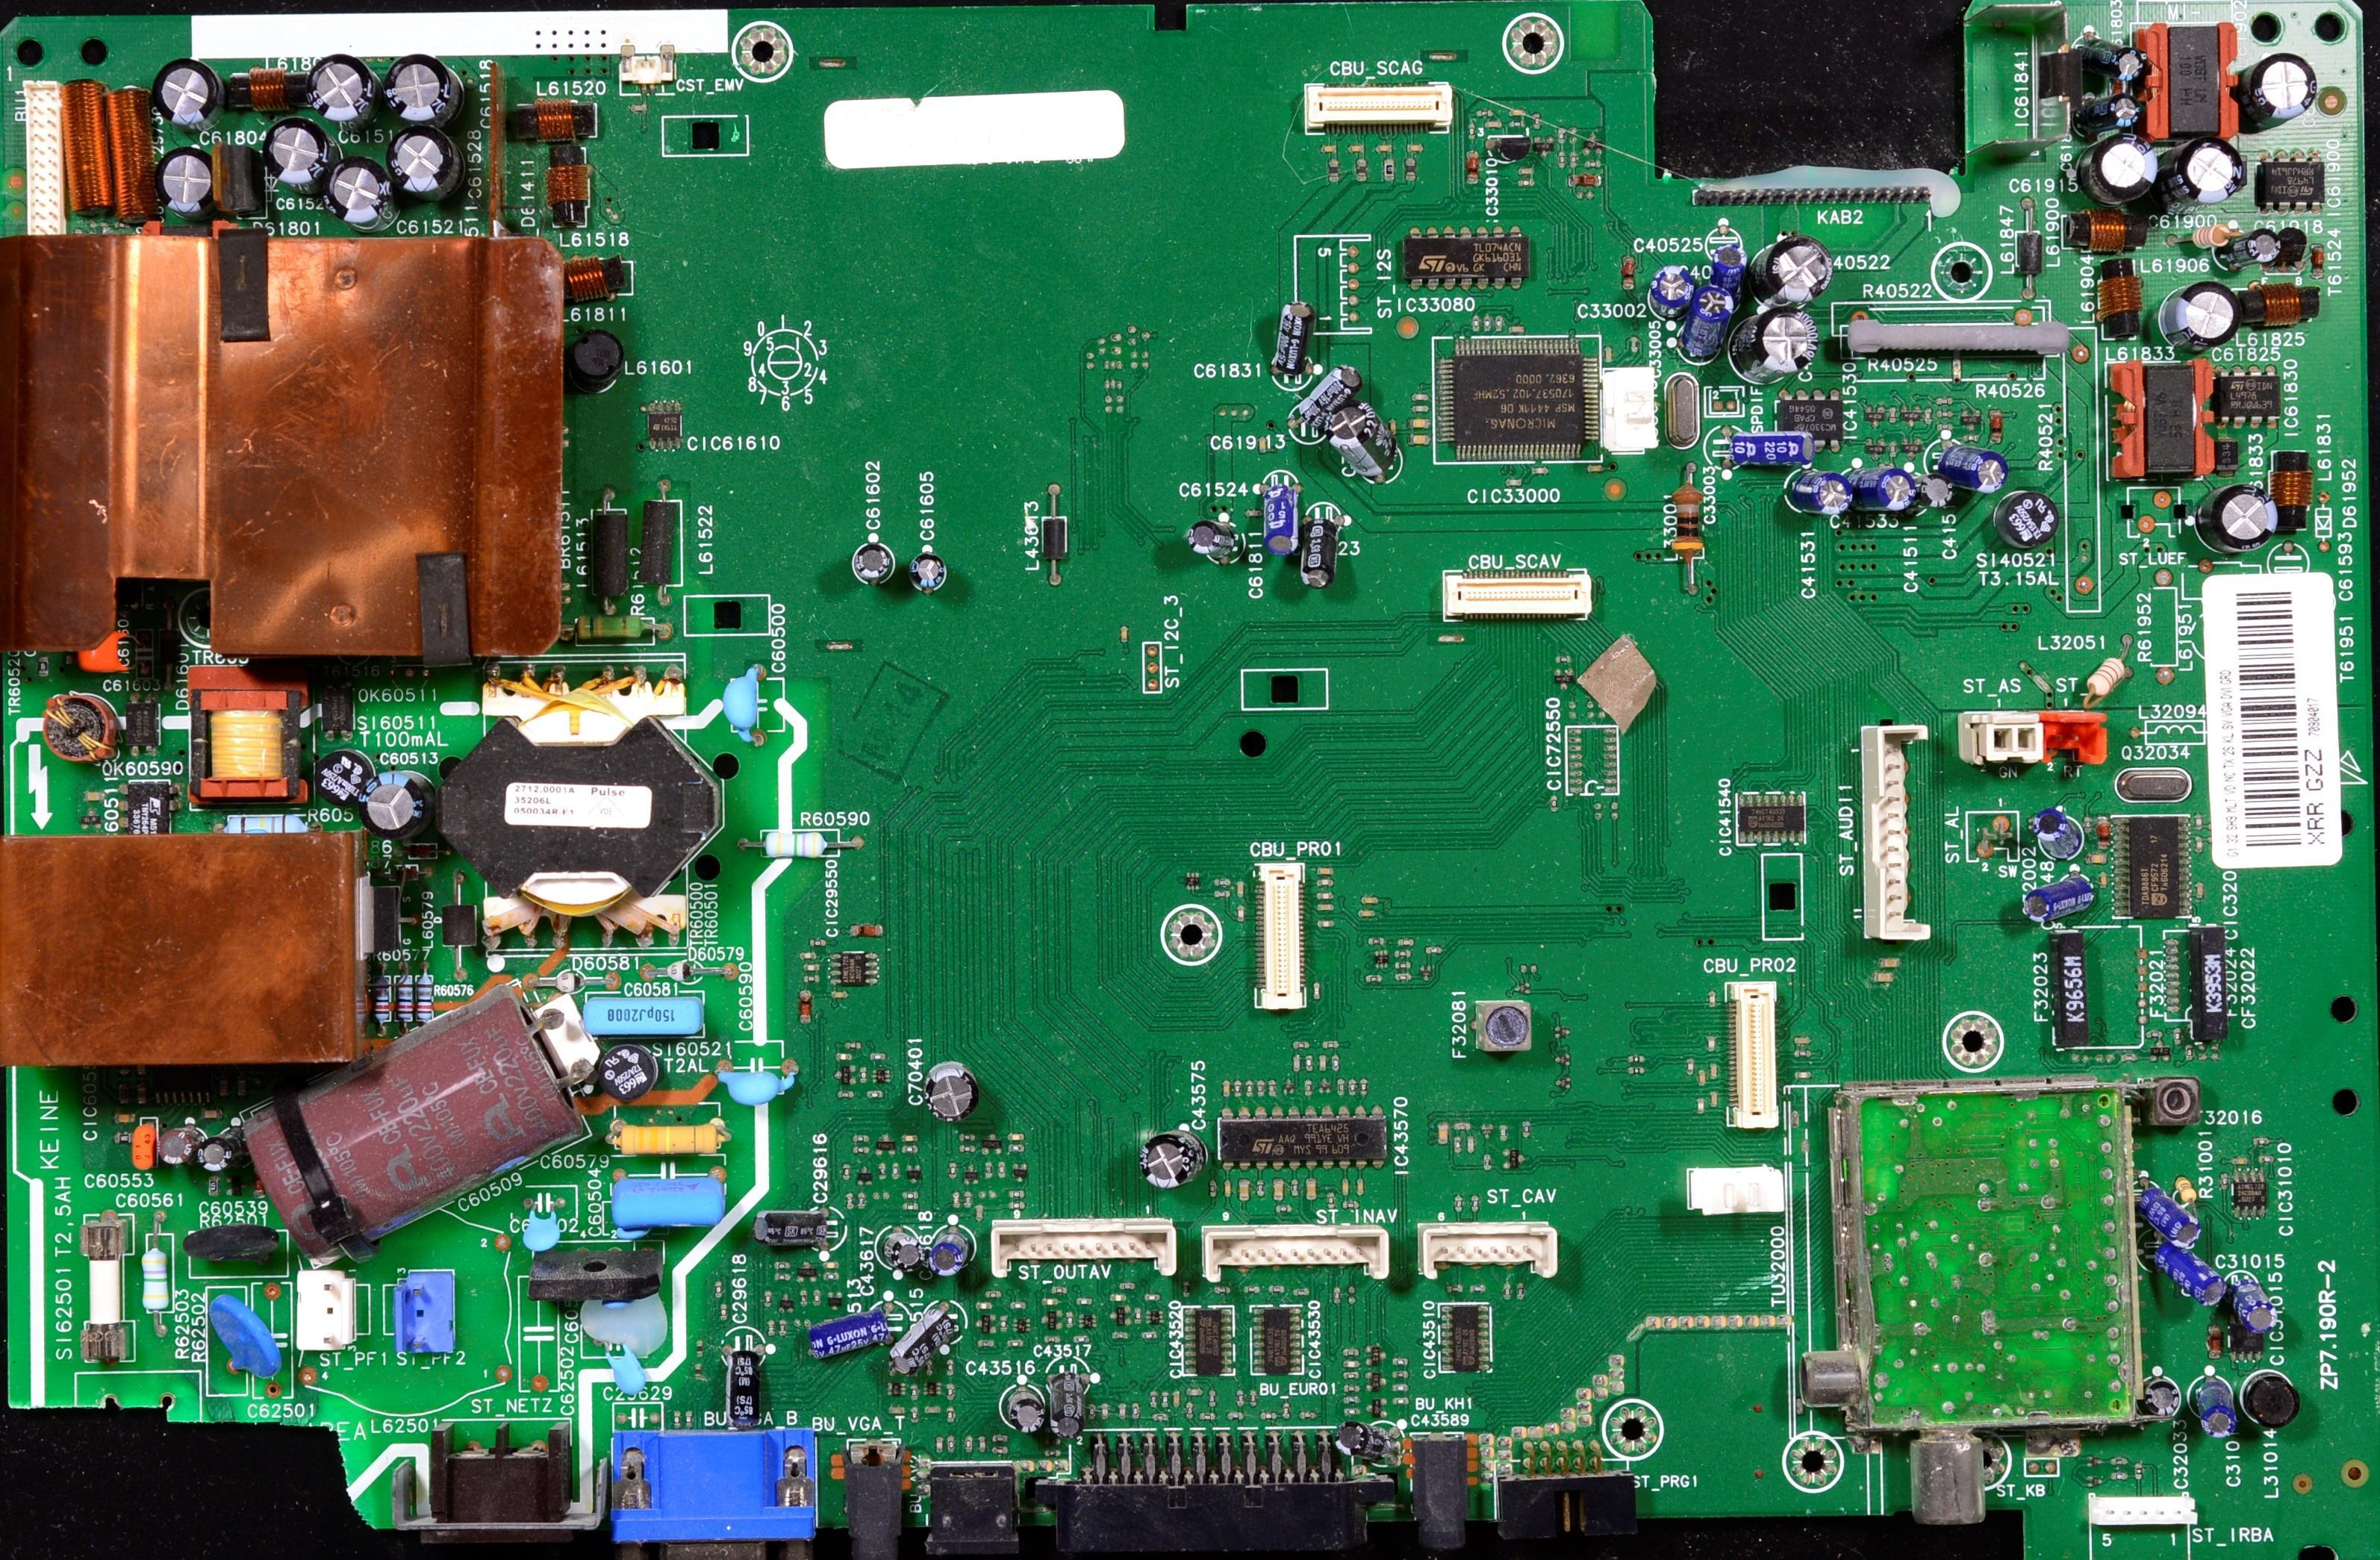Capacitor: (267, 1026, 576, 1225), (611, 1170, 729, 1231), (379, 55, 465, 124), (1328, 399, 1401, 478), (2243, 50, 2320, 125), (2156, 282, 2245, 346), (2134, 1240, 2218, 1305), (2169, 140, 2251, 207), (1743, 310, 1819, 378), (2199, 484, 2276, 550), (2075, 140, 2157, 200), (723, 663, 773, 755), (1758, 239, 1829, 303), (258, 120, 333, 180), (897, 1308, 965, 1371), (582, 998, 707, 1032), (311, 53, 373, 120), (1139, 1129, 1206, 1188), (384, 125, 455, 183), (360, 773, 423, 837), (1860, 461, 1922, 525), (72, 621, 140, 678), (159, 143, 215, 212), (514, 1192, 576, 1254), (718, 1334, 765, 1413), (714, 1060, 803, 1101), (1784, 472, 1850, 522), (1716, 431, 1814, 466), (2028, 867, 2093, 919), (2187, 1374, 2238, 1438), (329, 160, 385, 220), (801, 1314, 890, 1352), (2132, 1175, 2182, 1241), (1271, 304, 1319, 368), (1256, 483, 1300, 554), (1181, 511, 1239, 566), (2031, 802, 2084, 860), (1303, 361, 1348, 427), (756, 1211, 841, 1244), (1338, 1421, 1407, 1462), (1296, 511, 1337, 581), (1940, 443, 2006, 488), (1047, 1367, 1088, 1436), (923, 1066, 974, 1117), (155, 60, 211, 107), (1001, 1384, 1047, 1441), (599, 1347, 651, 1396), (2134, 1370, 2181, 1423), (1651, 265, 1700, 313), (1695, 289, 1735, 347), (876, 1226, 923, 1273), (2090, 95, 2142, 135), (2233, 226, 2281, 270), (154, 1126, 196, 1170), (1913, 474, 1957, 517), (924, 1232, 972, 1273), (1487, 128, 1535, 166), (1711, 242, 1752, 287), (196, 1135, 238, 1177), (2110, 45, 2151, 87), (852, 541, 894, 580), (118, 576, 159, 615), (133, 1117, 158, 1170), (908, 552, 942, 589)
Connector: (1863, 721, 1939, 947), (1201, 1223, 1389, 1285), (991, 1219, 1177, 1276), (1247, 853, 1315, 1006), (1719, 979, 1782, 1129), (1295, 81, 1462, 135), (1436, 566, 1602, 620), (1415, 1223, 1561, 1278)
IC: (1430, 335, 1601, 461), (1218, 1108, 1391, 1173), (2107, 810, 2198, 915), (1397, 225, 1522, 287), (1730, 785, 1813, 850), (1429, 1300, 1498, 1373), (1562, 720, 1622, 800), (2252, 149, 2326, 216), (1178, 1301, 1240, 1379), (2217, 1264, 2280, 1335), (1248, 1303, 1309, 1379), (111, 779, 182, 836), (638, 396, 694, 453), (2224, 1167, 2271, 1217), (828, 945, 883, 989), (2224, 1332, 2274, 1372)
Resistor: (208, 1284, 275, 1391), (606, 1120, 738, 1158), (187, 1226, 290, 1273), (134, 1219, 177, 1320), (566, 610, 677, 640), (753, 830, 838, 862), (2085, 655, 2140, 699), (370, 964, 398, 1020), (395, 964, 417, 1028), (2172, 1173, 2208, 1212), (2179, 224, 2232, 250), (417, 964, 439, 1028), (1990, 405, 2012, 452)
